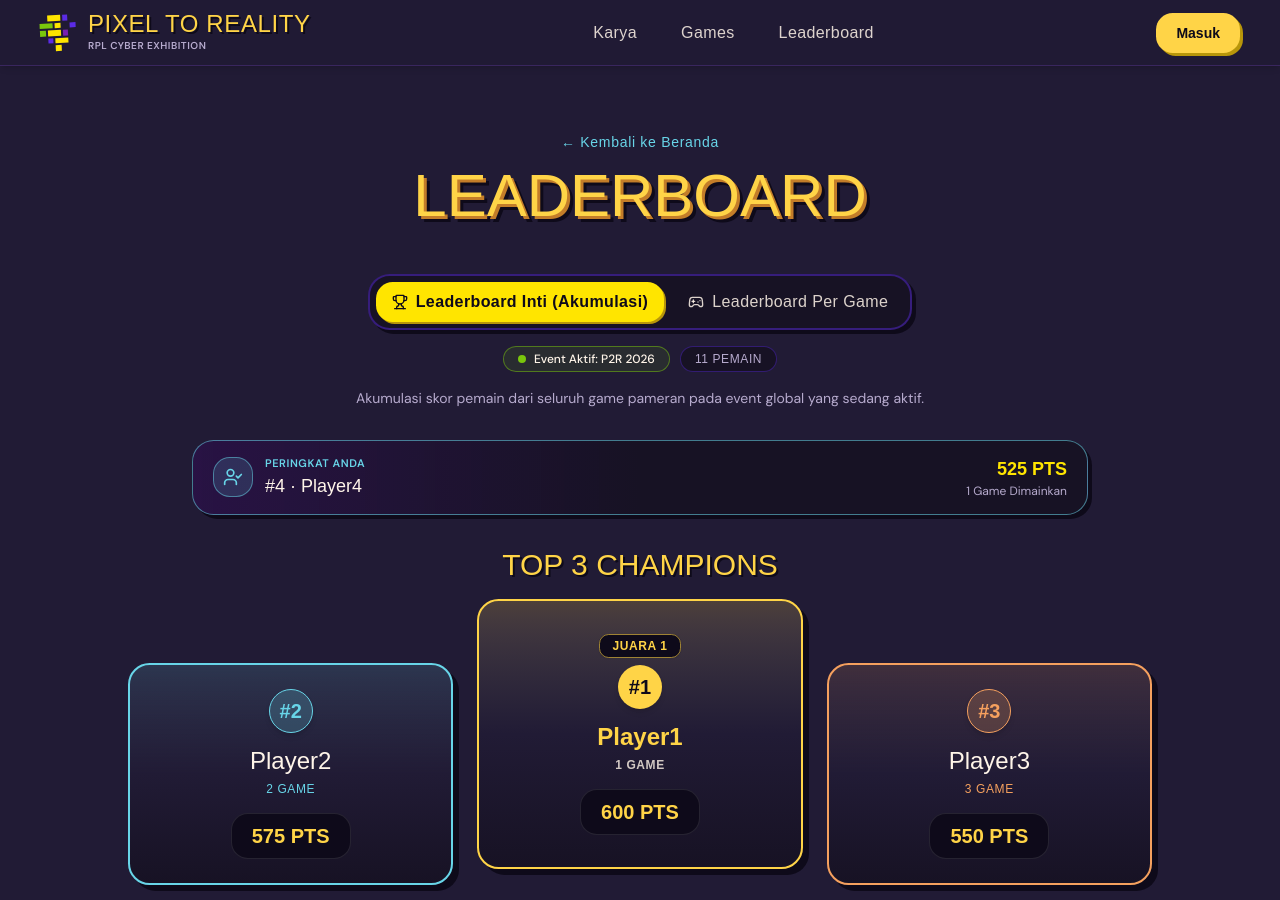
Scenario: LeaderboardPage & LeaderboardSection (Dual Live Leaderboard) › Overall & Per-Game Live Mode › switches to Per-Game tab, fetches selected game, respects lower_is_better direction, and switches games
Click the tab "Leaderboard Per Game". click: (788, 302)
box: [672,282,904,322]
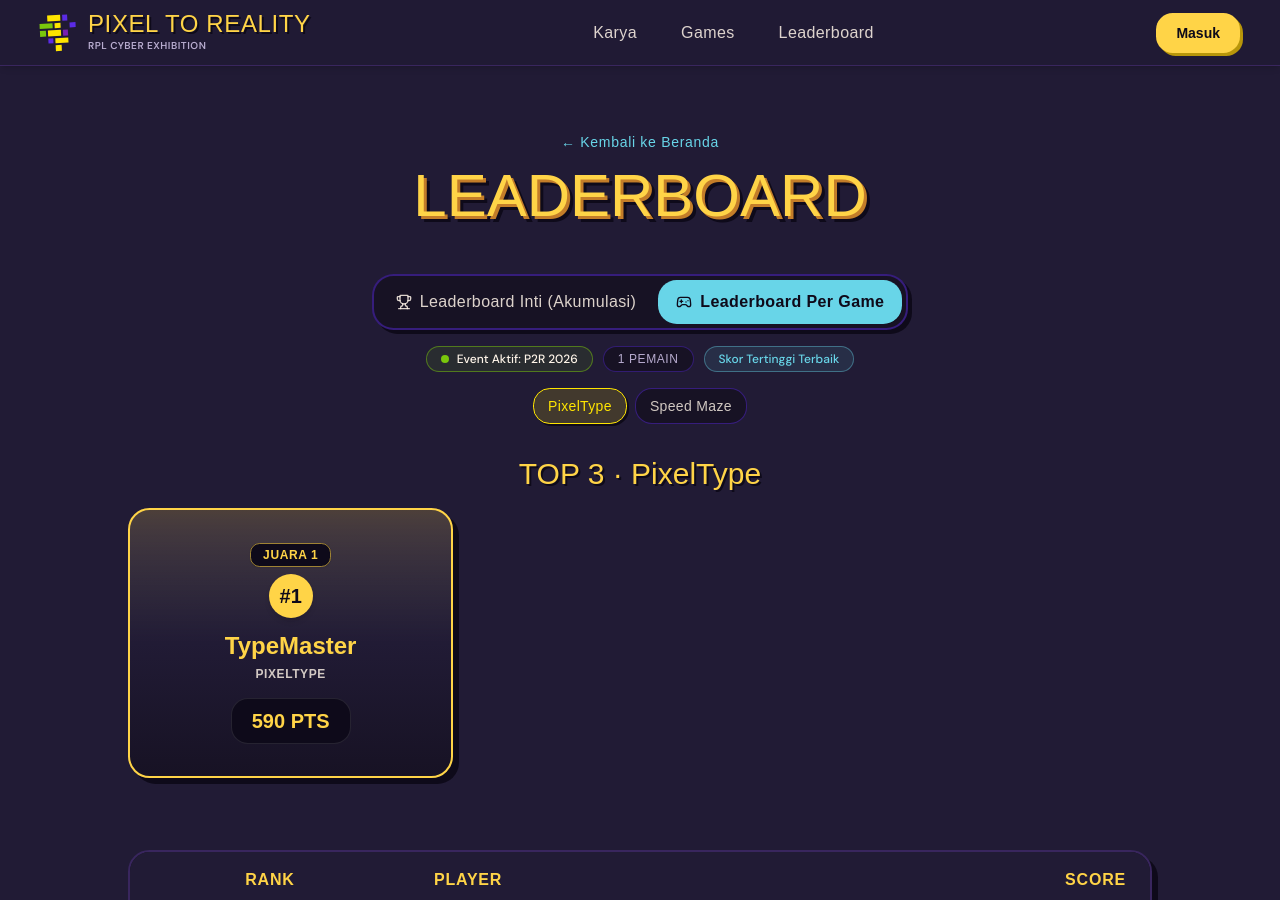
Expected: the heading "TypeMaster" is shown, [225,632,356,659]
Click the button "Speed Maze". click: (691, 406)
box: [635,388,747,424]
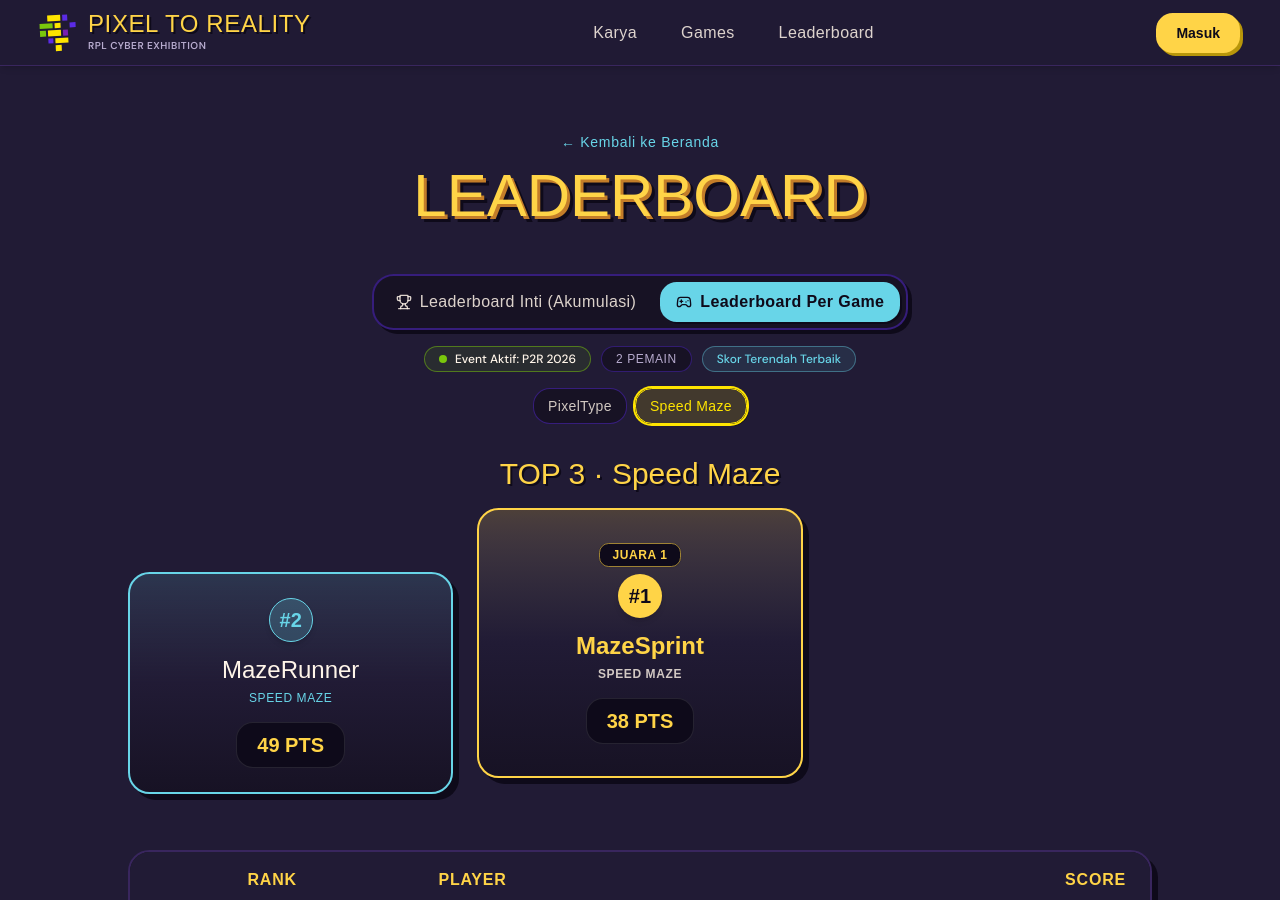
Expected: the text with test id "leaderboard-score-direction" reads "Skor Terendah Terbaik", [717,351,841,367]
Expected: the heading "MazeSprint" is shown, [576,632,704,659]
